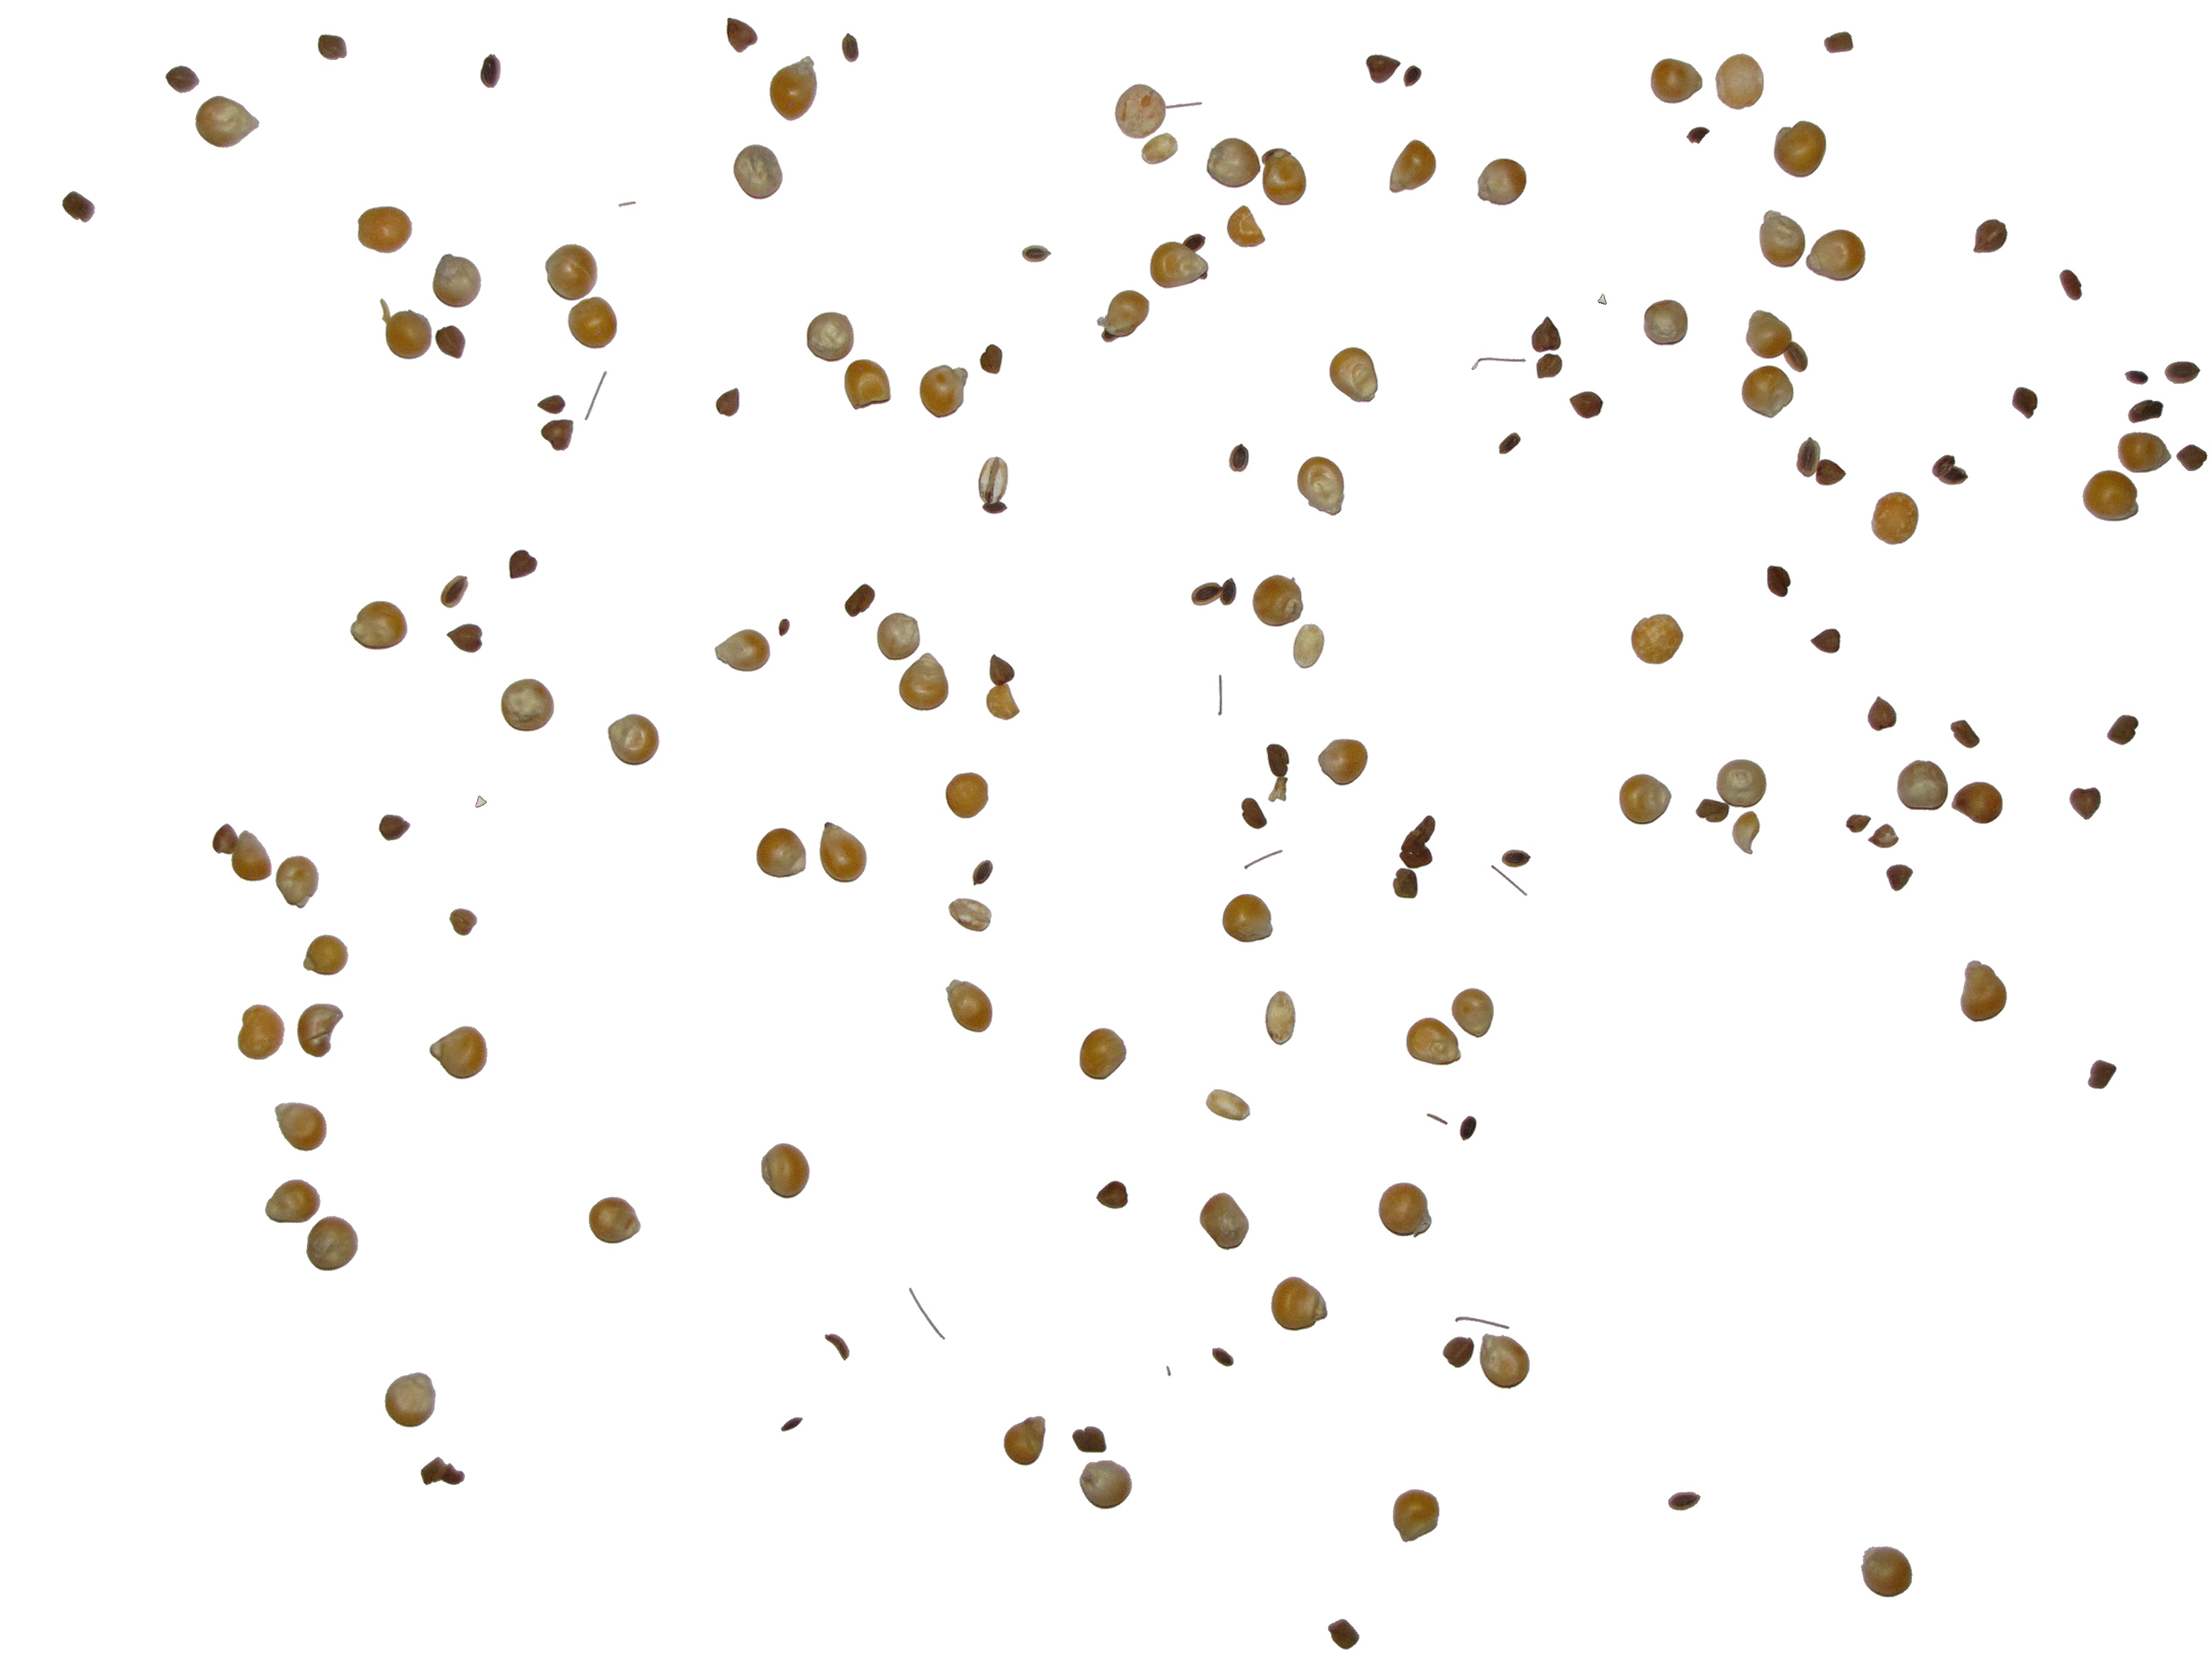buckwheat: (1399, 816, 1435, 868), (421, 1457, 465, 1485), (1973, 220, 2006, 253), (726, 17, 758, 52), (1366, 54, 1400, 84), (1933, 457, 1968, 486), (1531, 317, 1561, 352), (2069, 788, 2101, 819), (542, 420, 573, 451), (845, 584, 874, 617), (1867, 697, 1897, 730), (435, 326, 465, 359), (448, 624, 482, 652), (2107, 714, 2139, 744), (63, 192, 94, 221), (1444, 1337, 1474, 1368), (1799, 437, 1822, 477), (1329, 1619, 1359, 1649), (1266, 744, 1296, 774), (441, 577, 469, 608), (165, 66, 199, 92), (1096, 1182, 1129, 1208), (1569, 392, 1602, 418), (1951, 720, 1980, 748), (2090, 1060, 2118, 1089), (2012, 387, 2038, 418), (1073, 1427, 1106, 1452), (2128, 401, 2163, 423), (509, 551, 536, 579), (2177, 444, 2207, 471), (1817, 458, 1846, 484), (1191, 579, 1221, 605), (1242, 798, 1266, 829), (1696, 800, 1730, 823), (449, 910, 477, 936), (2165, 362, 2200, 383), (1811, 629, 1841, 653), (380, 816, 409, 840), (1393, 868, 1418, 897), (1886, 864, 1912, 890), (319, 35, 347, 59), (1869, 824, 1898, 847), (1768, 566, 1791, 596), (826, 1333, 850, 1359), (1536, 354, 1562, 378), (481, 54, 500, 87), (716, 389, 738, 416), (2060, 270, 2081, 300), (981, 345, 1001, 375), (1669, 1492, 1700, 1511), (1825, 31, 1853, 52), (1501, 849, 1531, 868), (1230, 444, 1249, 472), (972, 861, 993, 885), (538, 396, 564, 415), (1500, 432, 1521, 455), (1846, 814, 1871, 833), (843, 33, 859, 61), (1022, 246, 1050, 261), (1460, 1117, 1477, 1140), (1212, 1349, 1233, 1366), (1404, 66, 1421, 87), (1688, 127, 1709, 143), (2125, 371, 2148, 385), (780, 1419, 803, 1431)
dill: (909, 1288, 944, 1340), (1491, 866, 1527, 896), (585, 371, 606, 420), (1244, 850, 1282, 870), (1472, 357, 1526, 369), (1456, 1317, 1510, 1328), (1217, 674, 1221, 716), (475, 796, 486, 807), (618, 202, 636, 207)
mais: (195, 96, 260, 148), (770, 56, 817, 120), (430, 1026, 488, 1079), (1806, 230, 1865, 281), (1271, 1277, 1327, 1330), (545, 244, 597, 300), (1379, 1183, 1432, 1237), (2083, 471, 2139, 521), (1775, 122, 1825, 178), (1200, 1192, 1249, 1249), (899, 653, 948, 711), (350, 601, 408, 650), (1298, 457, 1345, 516), (1961, 960, 2006, 1021), (1742, 366, 1794, 418), (502, 680, 554, 732), (1207, 138, 1261, 188), (385, 1373, 435, 1427), (307, 1216, 357, 1270), (1329, 347, 1378, 403), (761, 1143, 810, 1199), (1480, 1333, 1529, 1389), (1716, 54, 1764, 110), (820, 823, 866, 882), (1097, 291, 1150, 342), (1630, 613, 1683, 664), (920, 364, 968, 418), (733, 145, 782, 199), (1261, 148, 1306, 206), (756, 828, 806, 878), (1620, 774, 1670, 824), (608, 714, 658, 765), (1862, 1547, 1912, 1598), (1252, 575, 1303, 626), (1897, 760, 1947, 810), (1080, 1460, 1132, 1509), (568, 296, 617, 349), (1407, 1018, 1461, 1065), (1115, 84, 1162, 138), (1759, 211, 1804, 267), (1150, 242, 1205, 288), (1223, 894, 1273, 943), (1871, 493, 1919, 544), (946, 979, 993, 1032), (434, 254, 481, 307), (1390, 139, 1435, 193), (239, 1006, 284, 1060), (1080, 1028, 1127, 1079), (275, 1103, 326, 1150), (298, 1004, 343, 1056), (589, 1197, 641, 1243), (1393, 1490, 1439, 1542), (359, 207, 411, 253), (714, 629, 770, 671), (265, 1180, 320, 1222), (1318, 739, 1367, 786), (1477, 159, 1526, 206), (806, 312, 853, 361), (1717, 760, 1766, 807), (1747, 310, 1796, 357), (845, 359, 890, 410), (275, 856, 319, 908), (1651, 59, 1702, 103), (390, 307, 432, 359), (1952, 782, 2003, 824), (2118, 432, 2170, 472), (1451, 988, 1493, 1037), (1644, 300, 1688, 345), (878, 613, 920, 660), (232, 829, 273, 877), (1005, 1417, 1045, 1466), (946, 772, 988, 817), (303, 936, 348, 976), (1228, 206, 1264, 247), (1733, 812, 1759, 854), (986, 683, 1014, 720)
other: (979, 457, 1008, 514), (1266, 992, 1296, 1046), (1205, 1087, 1251, 1119), (951, 899, 993, 931), (1294, 624, 1324, 667), (1141, 132, 1177, 164), (779, 619, 789, 636)
